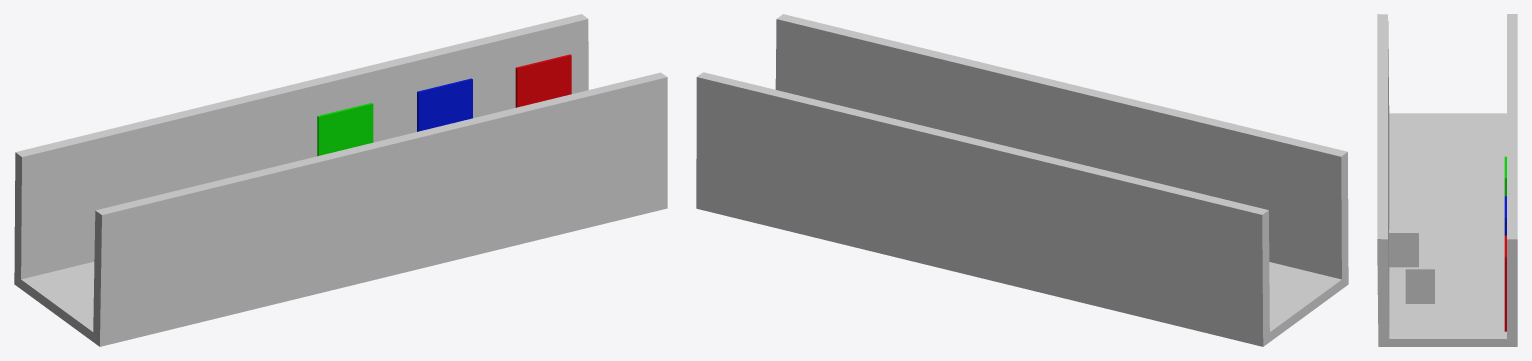
Rendered from Corredor.fbx.
3 views of the same model, side by side, from view 1: azimuth 30°, elevation 25°; view 2: azimuth 150°, elevation 25°; view 3: azimuth 270°, elevation 25° (orthographic). The views are drawn at different scales.
Visible parts, largest first — view 1: Cube.280, Cube.284, Cube.282, Cube.283; view 2: Cube.280; view 3: Cube.280, Cube.281, Cube.284.
Boxes of the visible parts, x1,y1,x2,y2 form: Cube.280: (14, 14, 667, 346); Cube.284: (515, 54, 571, 107); Cube.282: (317, 103, 373, 156); Cube.283: (417, 78, 472, 131); Cube.280: (696, 14, 1348, 346); Cube.280: (1377, 14, 1517, 346); Cube.281: (1389, 229, 1434, 303); Cube.284: (1504, 235, 1506, 331).
Bounding box in the file's own units: 3746 × 833 × 986.
